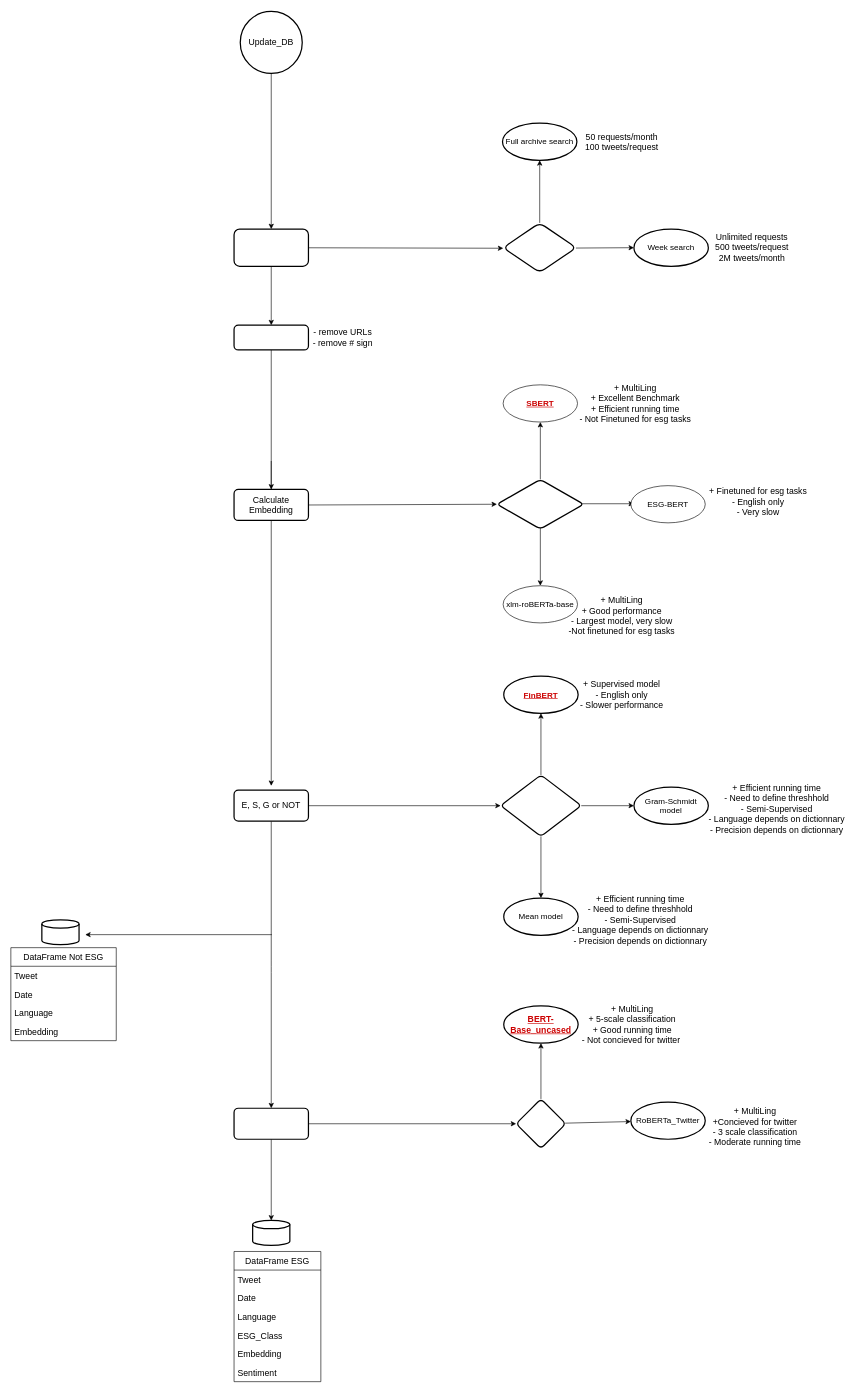
Some shapes in this 859 by 1393 pixel diagram are drawn without their labels. The centre of each missing label's shape, as x and y in pixels:
"Embedder" goes at point (540, 504).
"ESG_Filter" goes at point (541, 805).
"Preprocess" goes at point (271, 337).
"Scrap new tweets" goes at point (271, 247).
"Scraper" goes at point (539, 247).
"Sent_model" goes at point (540, 1123).
"Sentiment Analysis" goes at point (271, 1123).
